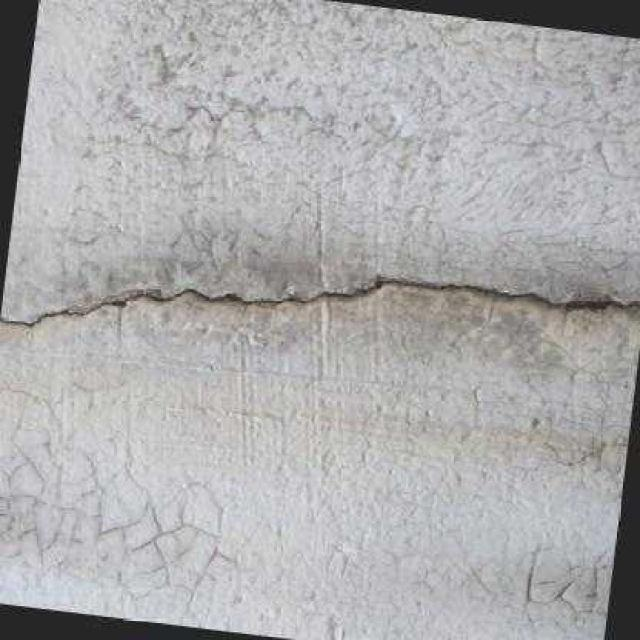D00: (0, 277, 640, 324)
